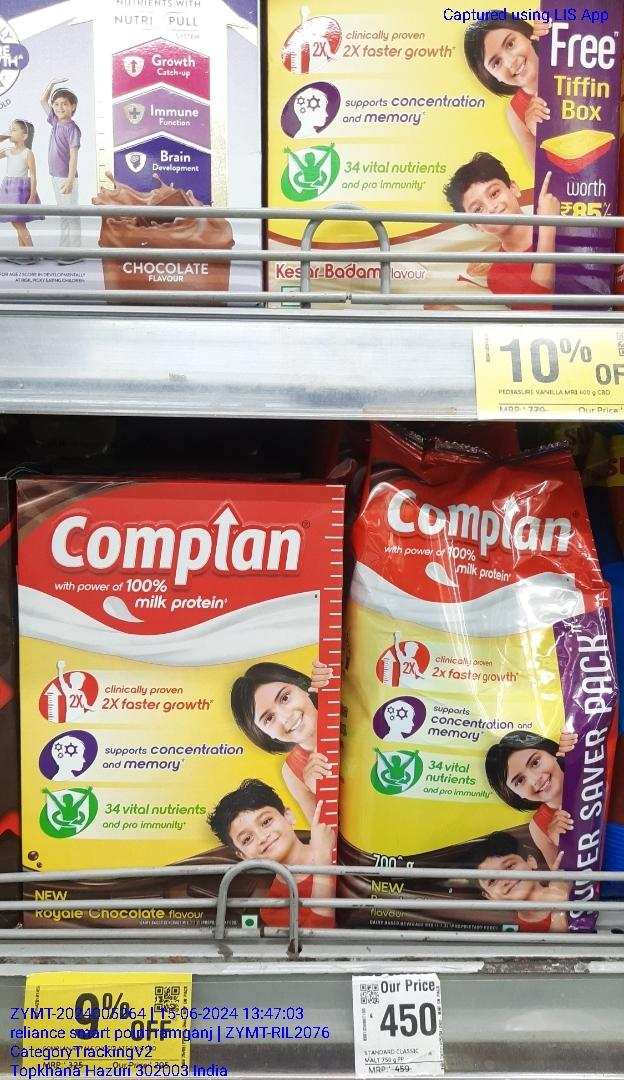COMPLAN_CHOCOLATE_500_GMS_PACK: (17, 470, 341, 932)
COMPLAN_KESAR_BADAM_500_GMS_PACK: (269, 0, 618, 300)
COMPLAN_RC_POUCH_700_GMS_12: (352, 443, 607, 941)
